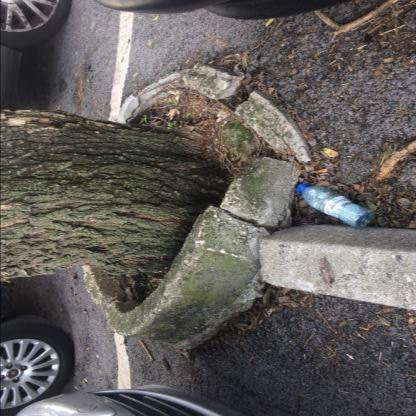Bottle cap: (296, 183, 374, 228)
